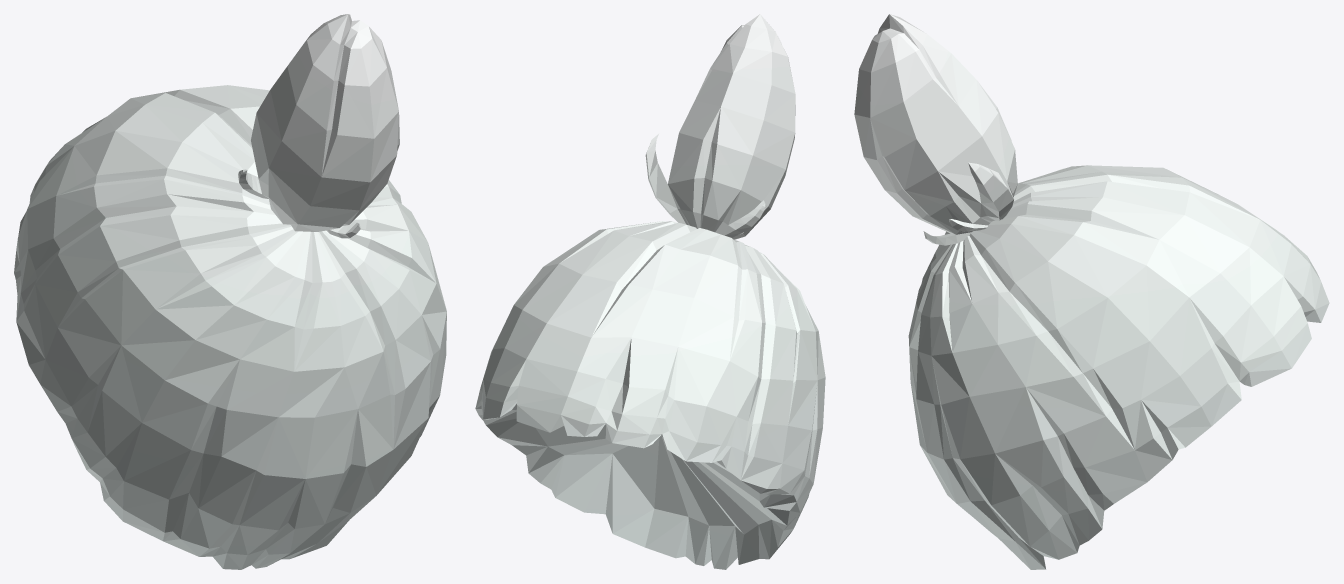
File: CharSkyKid_Hair_AP24Onion.glb
3 views of the same model, side by side, from view 1: azimuth 30°, elevation 25°; view 2: azimuth 150°, elevation 25°; view 3: azimuth 270°, elevation 25° (orthographic). The views are drawn at different scales.
Parts seen in each view (by area): view 1: CharSkyKid_Hair_AP24Onion; view 2: CharSkyKid_Hair_AP24Onion; view 3: CharSkyKid_Hair_AP24Onion.
Part boxes in pixels (x1,y1,x2,y2): CharSkyKid_Hair_AP24Onion: (14, 14, 446, 569); CharSkyKid_Hair_AP24Onion: (475, 14, 825, 569); CharSkyKid_Hair_AP24Onion: (854, 14, 1329, 569).
Size of the model in its own units: 2.23 by 3.78 by 3.04.
1 material, 1 textured.
